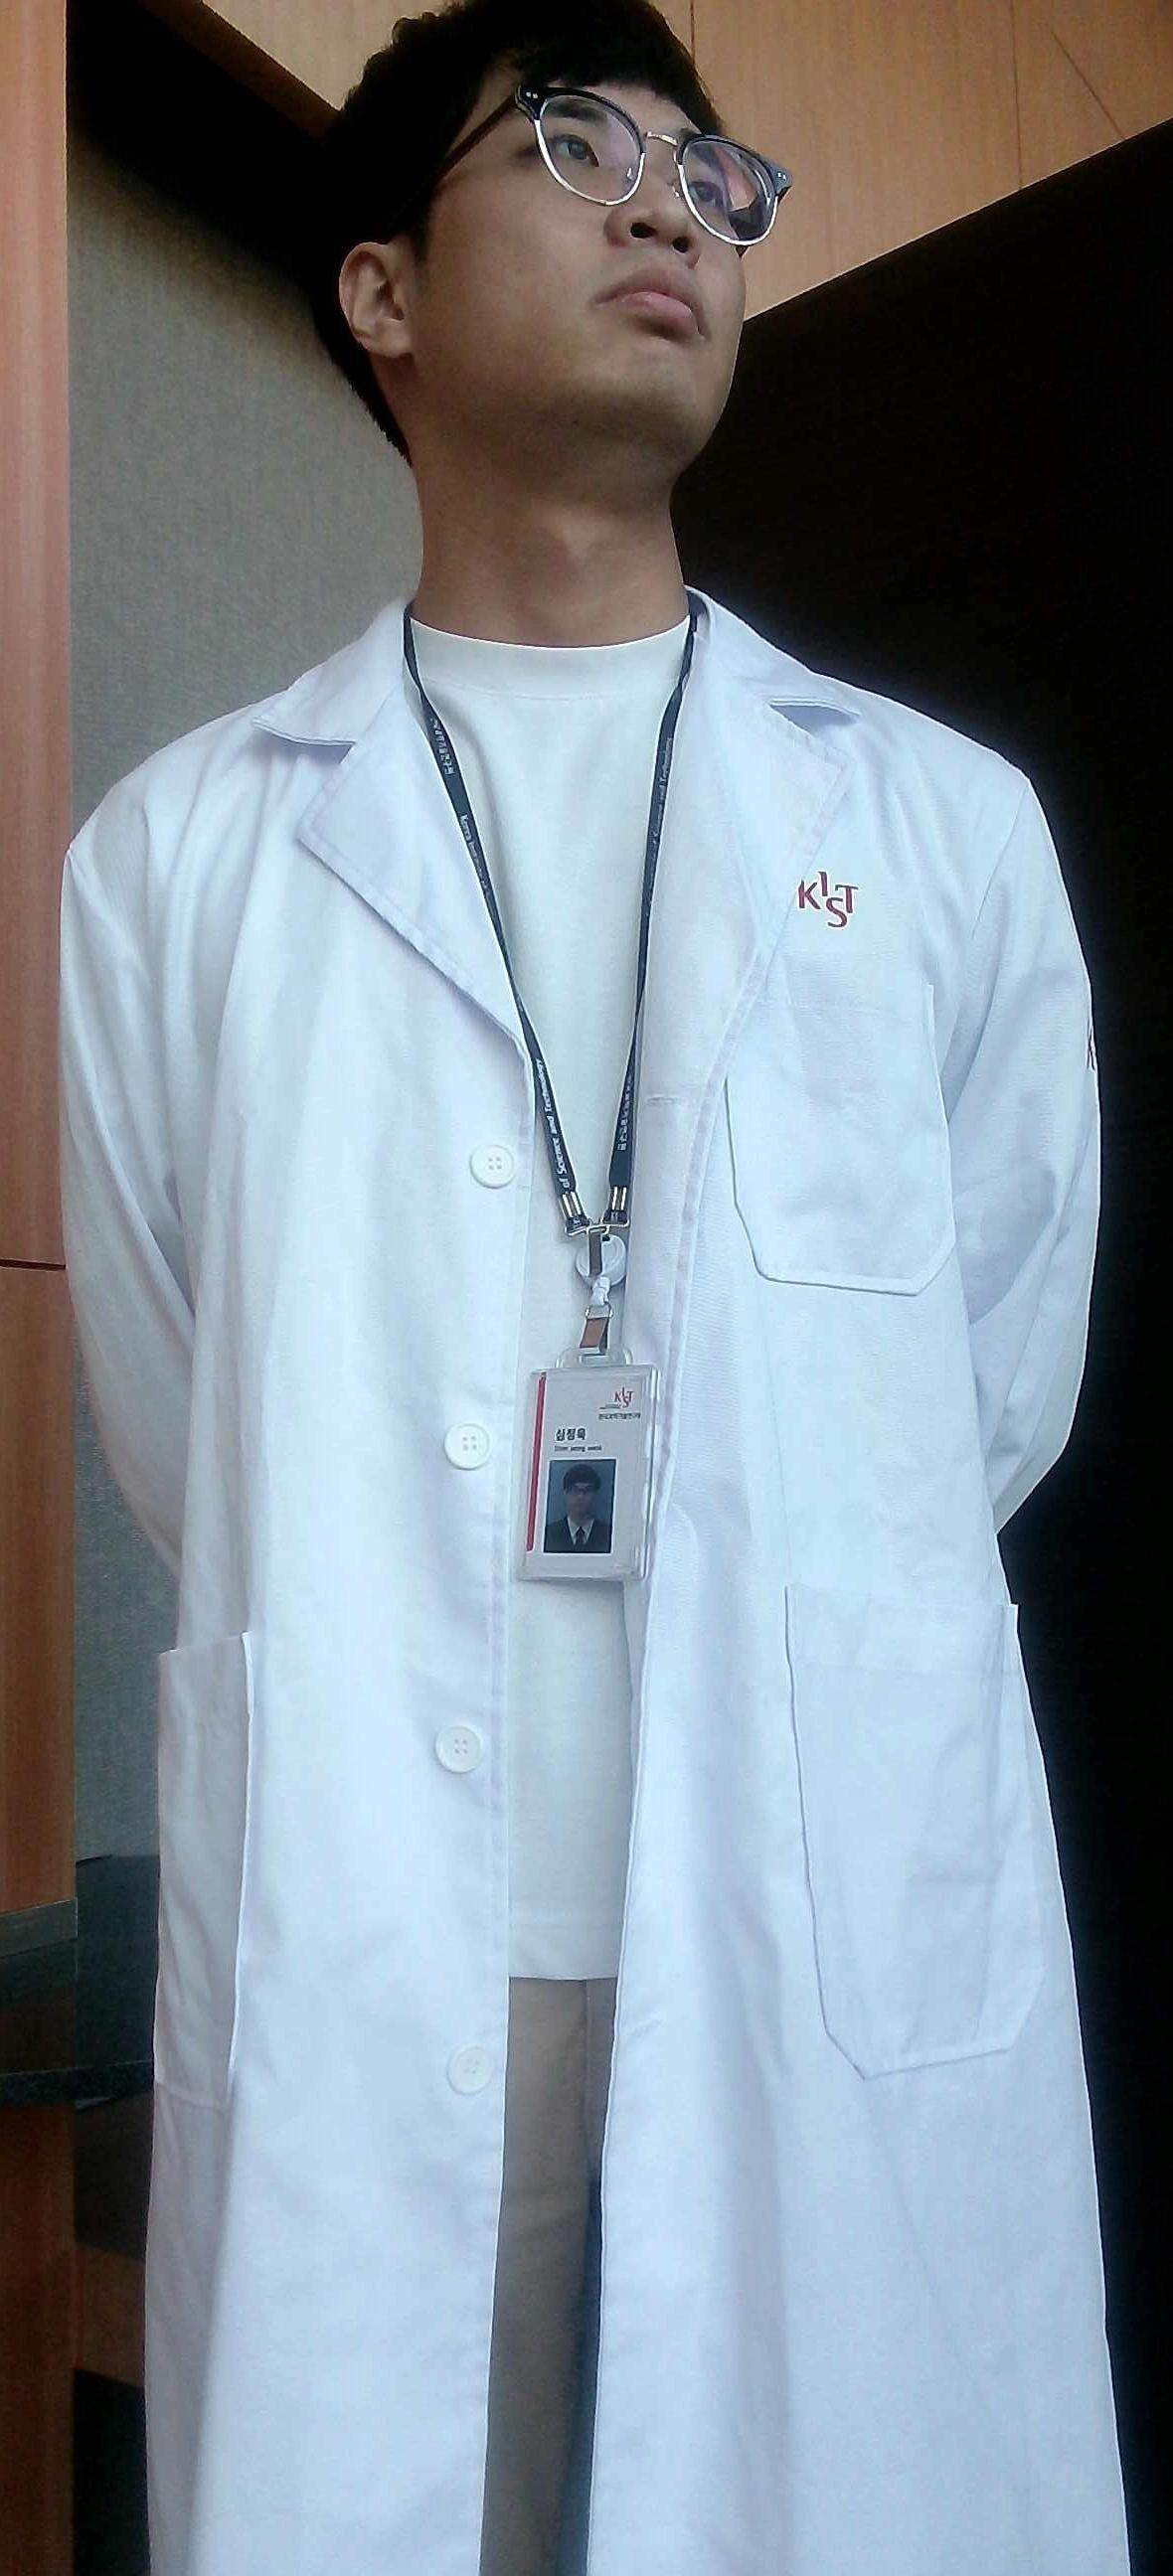lab_coat: (46, 618, 1114, 2576)
